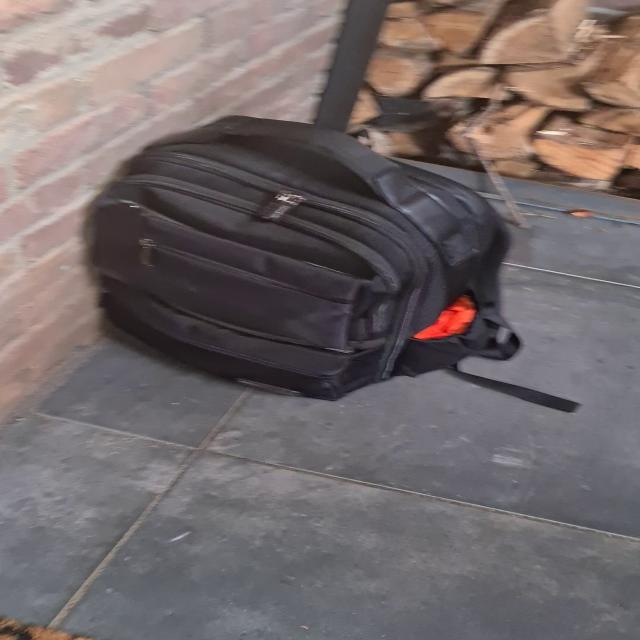backpack: (68, 106, 532, 408)
